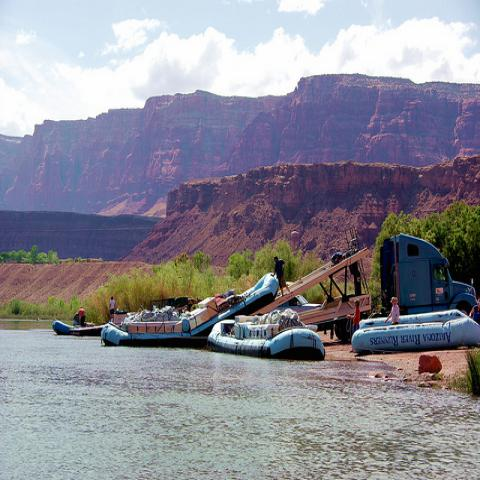truck: (256, 235, 479, 348)
